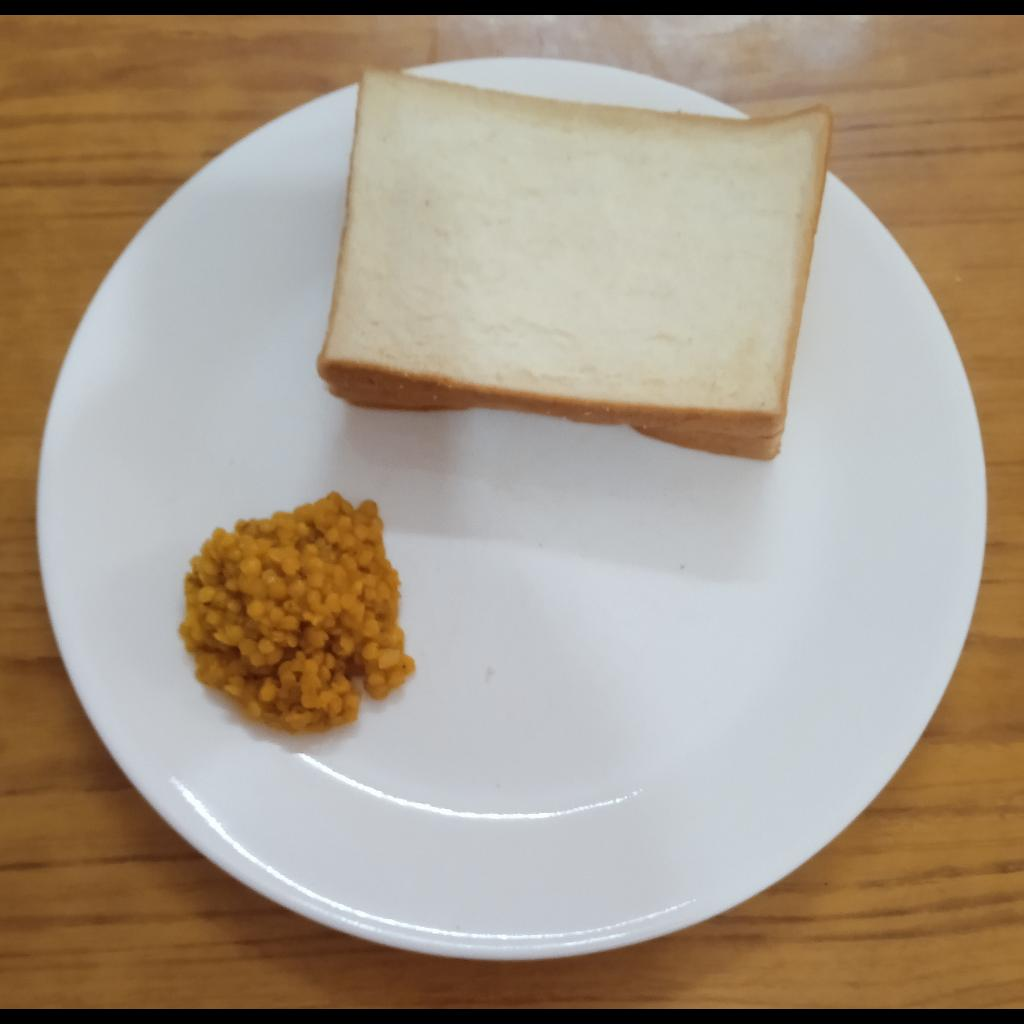bread: (316, 62, 838, 461)
daal: (177, 492, 414, 736)
